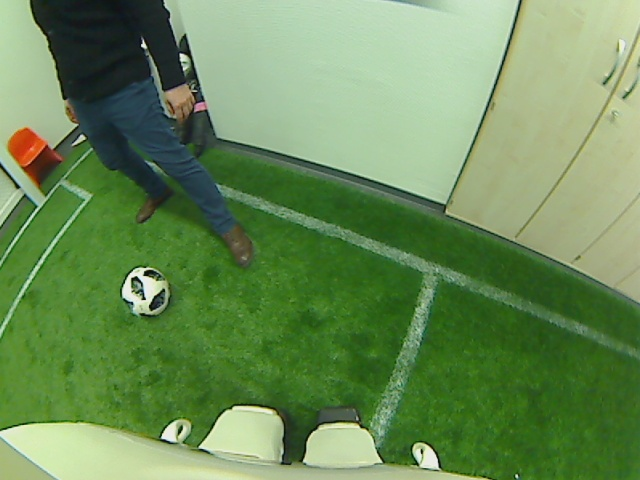ball: (118, 264, 170, 319)
